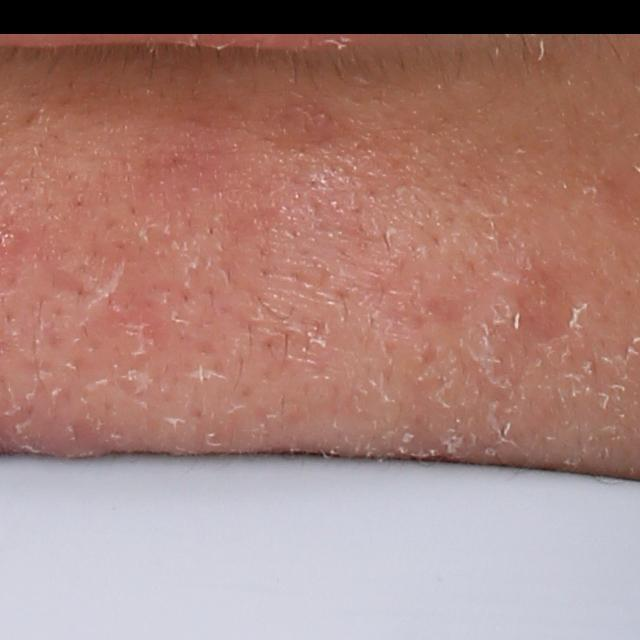atrophic_scar: (514, 254, 579, 340), (19, 108, 44, 126)
